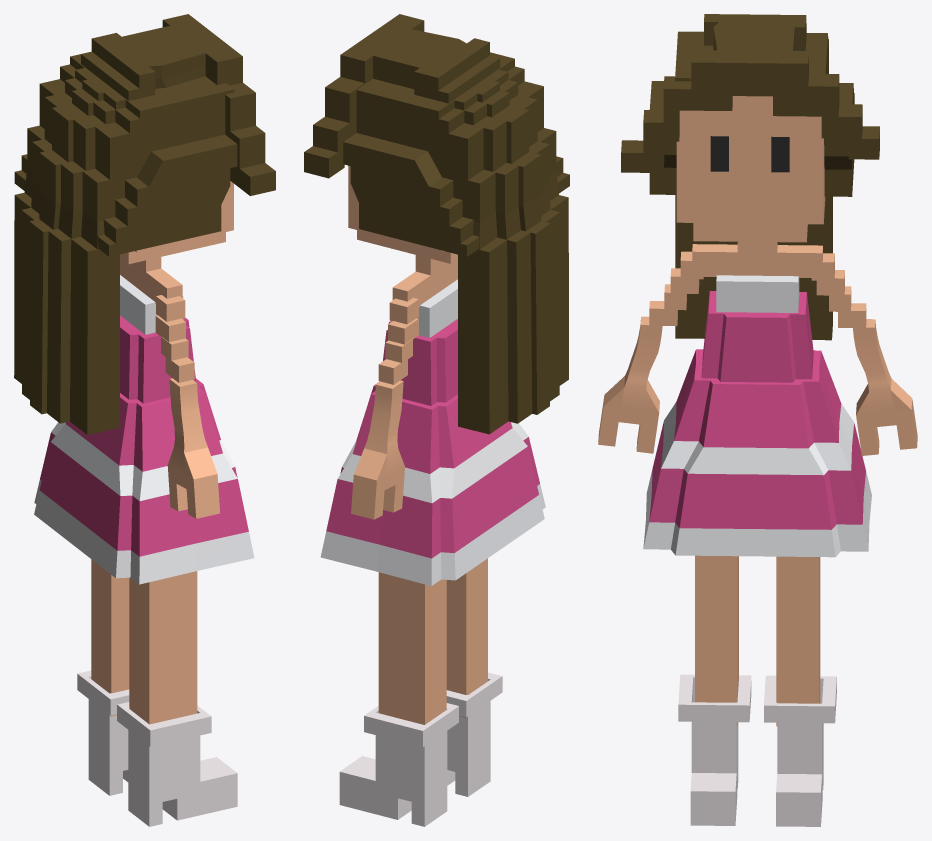
Rendered from saleena-girl.glb.
3 views of the same model, side by side, from view 1: azimuth 30°, elevation 25°; view 2: azimuth 150°, elevation 25°; view 3: azimuth 270°, elevation 25° (orthographic). The views are drawn at different scales.
Visible parts, largest first — view 1: Character; view 2: Character; view 3: Character.
Boxes of the visible parts, box(x1,y1,x2,y2) form: Character: box(14, 14, 275, 826); Character: box(304, 14, 569, 826); Character: box(598, 14, 917, 826).
Size of the model in its own units: 1.91 by 7.57 by 2.86.
